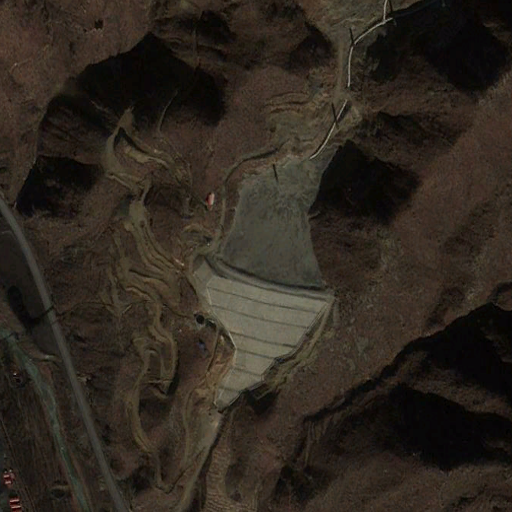tp: (196, 155, 329, 409)
